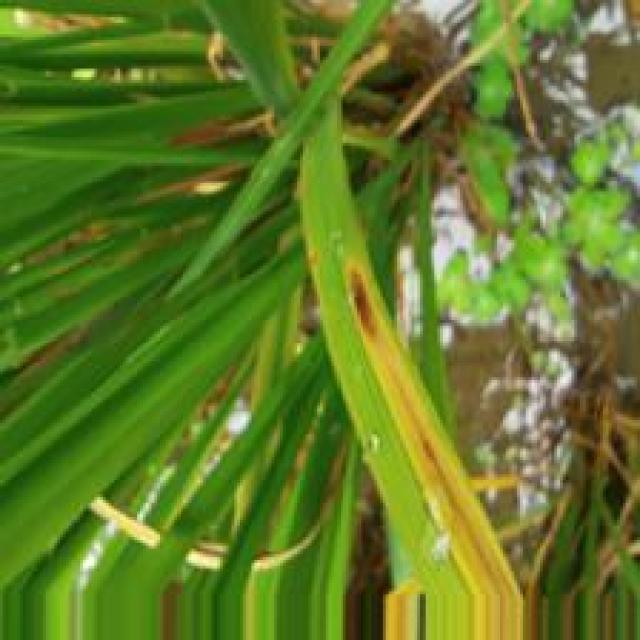Narrow_Brown_Leaf_Spot: (347, 250, 528, 600)
